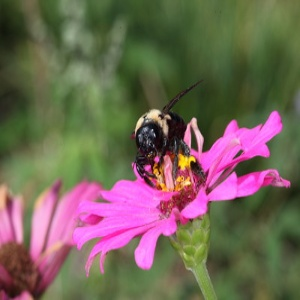bee: (134, 107, 198, 182)
